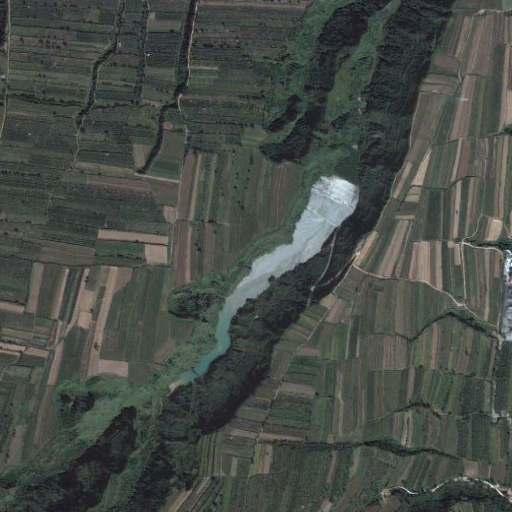tp: (168, 174, 359, 398)
